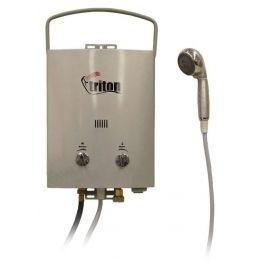Ducha: (34, 8, 230, 250)
